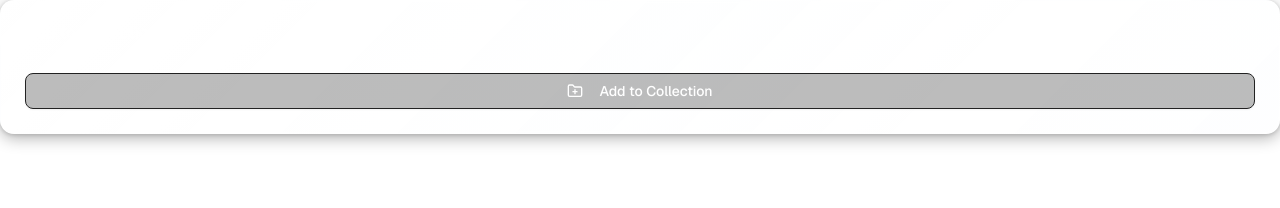
Test: AddToCollectionCard › shows no collections message when list is empty
This screenshot has width=1280, height=208.
Click the button "Add to Collection".
click(640, 91)  # box [25,73,1255,109]
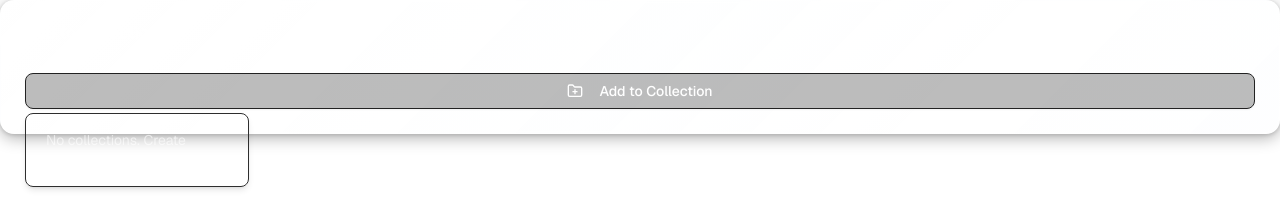
Expected: the text "No collections. Create one first." is shown, [46,131,186,169]
